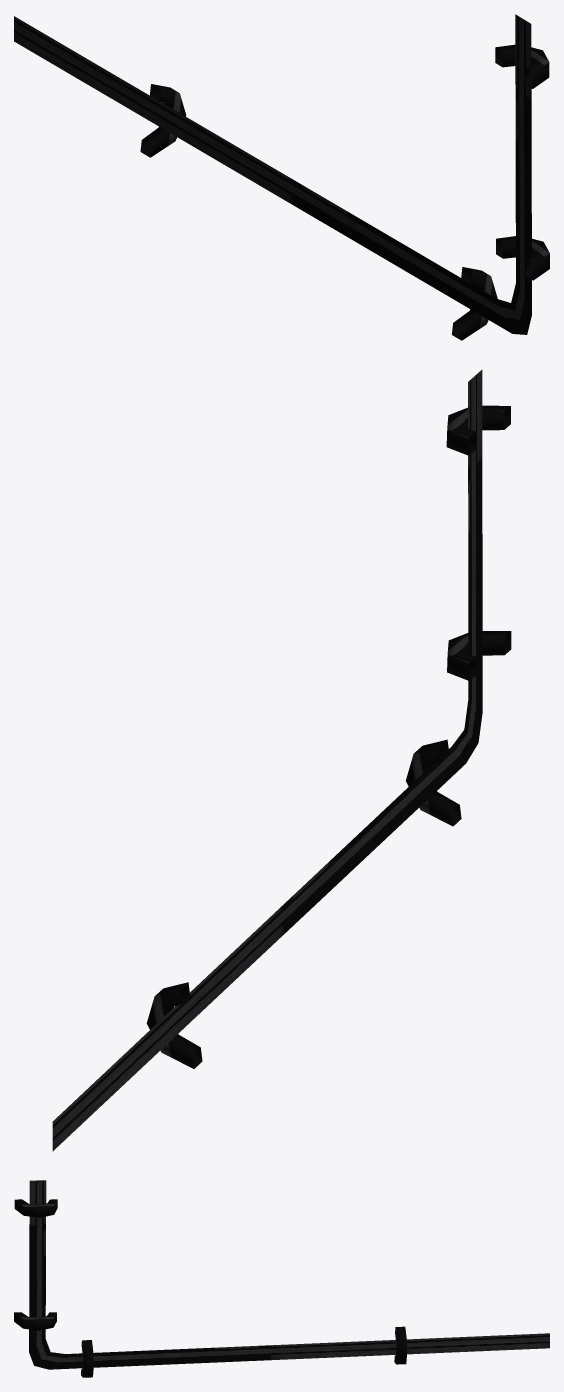
The model's file is SM_SwitchWireCorner02.FBX.
3 renders of one model, top to bottom at view 1: azimuth 30°, elevation 25°; view 2: azimuth 150°, elevation 25°; view 3: azimuth 270°, elevation 25°, orthographic. The views are drawn at different scales.
Parts seen in each view (by area): view 1: Object082; view 2: Object082; view 3: Object082.
Boxes of the visible parts, bbox=[...] form: Object082: bbox=[14, 14, 549, 340]; Object082: bbox=[52, 369, 511, 1151]; Object082: bbox=[14, 1180, 549, 1377].
Bounding box in the file's own units: 4.14 × 13.95 × 33.52.
